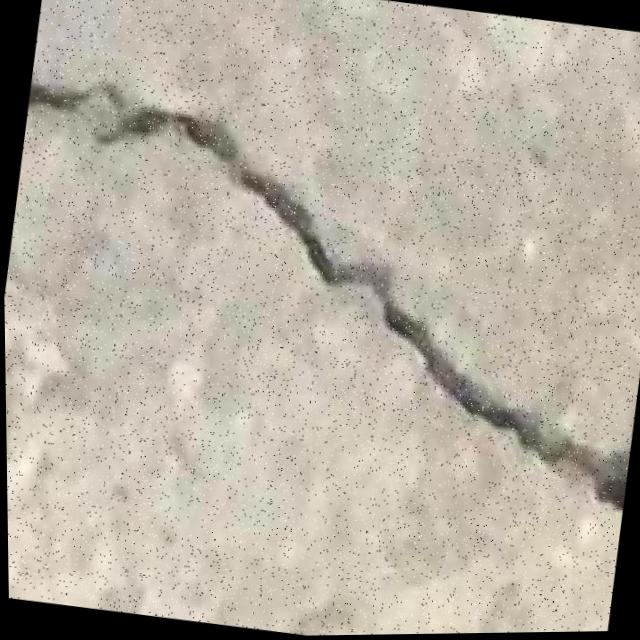Crack: (1, 69, 640, 530)
